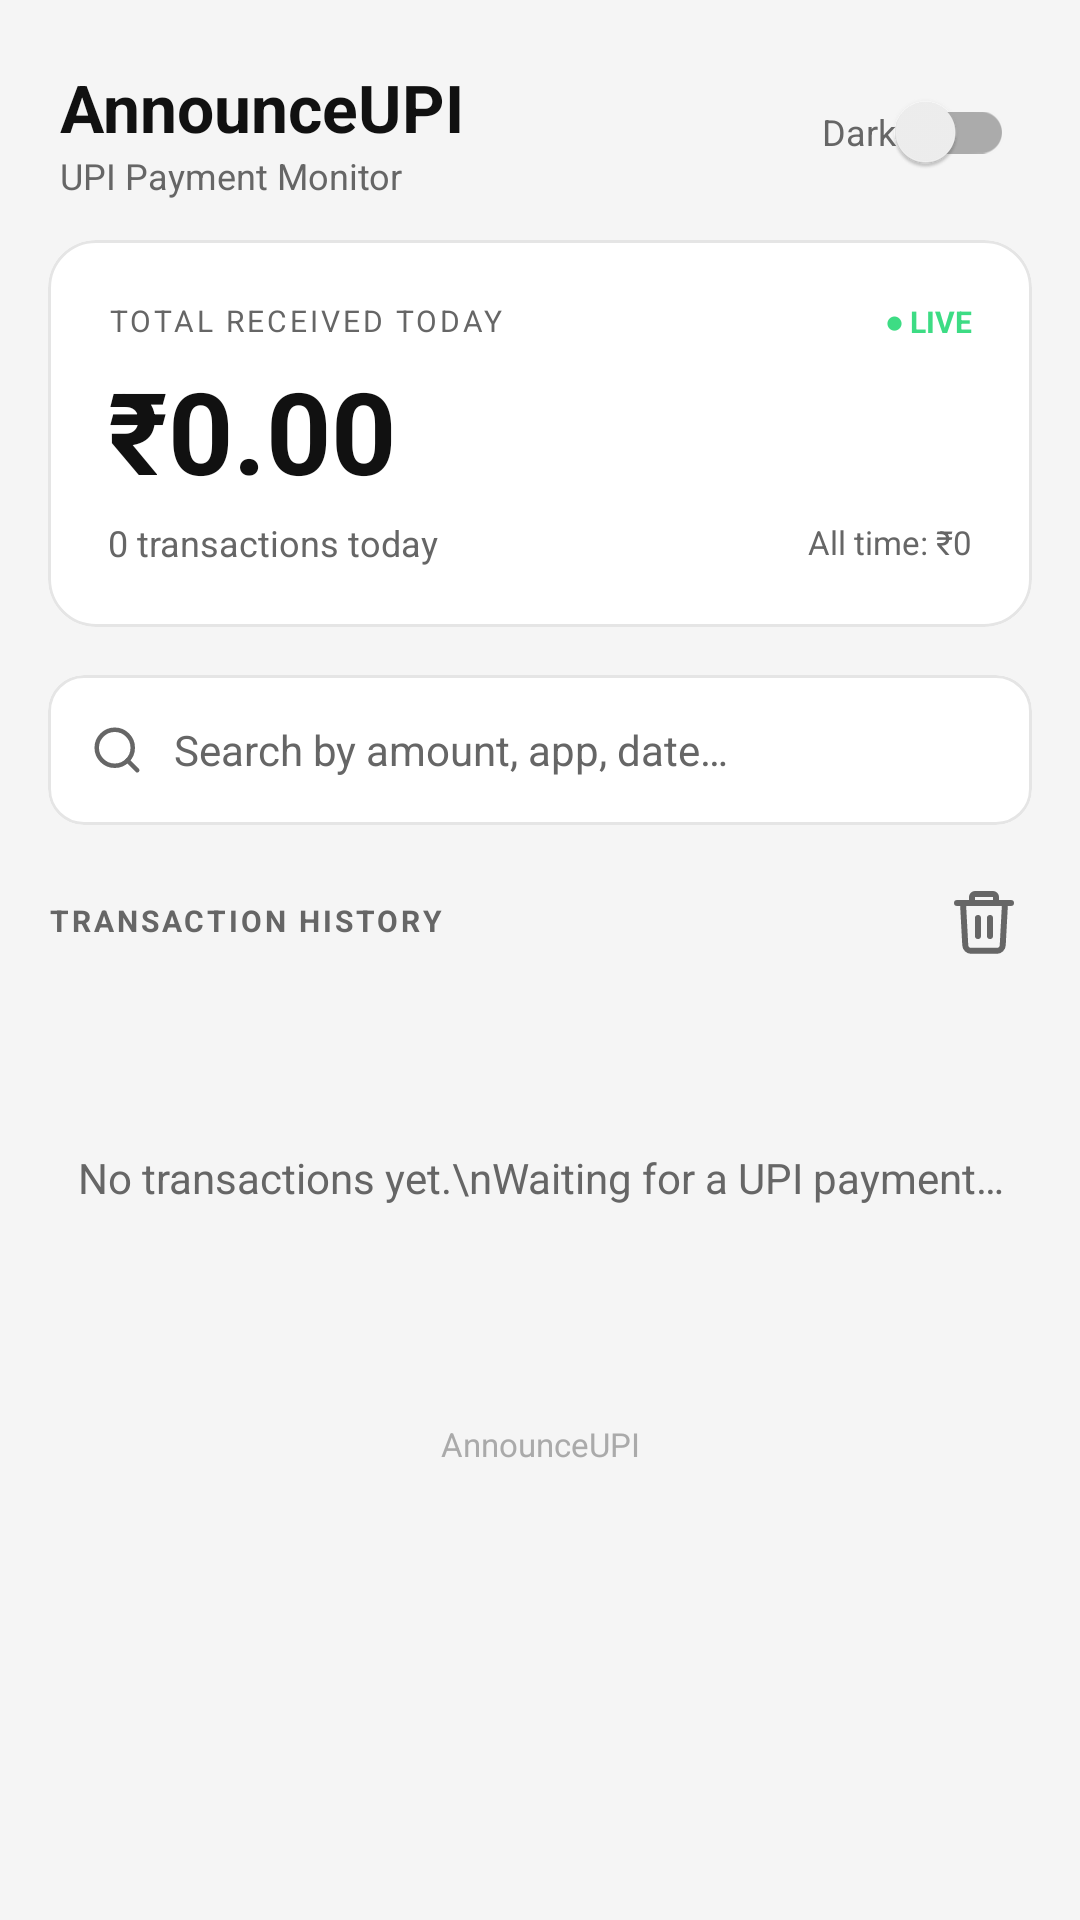

Icons on this 1080×1920 Android screen, each with its box as (x1, y1, x2, y2):
delete: (954, 891, 1014, 954)
